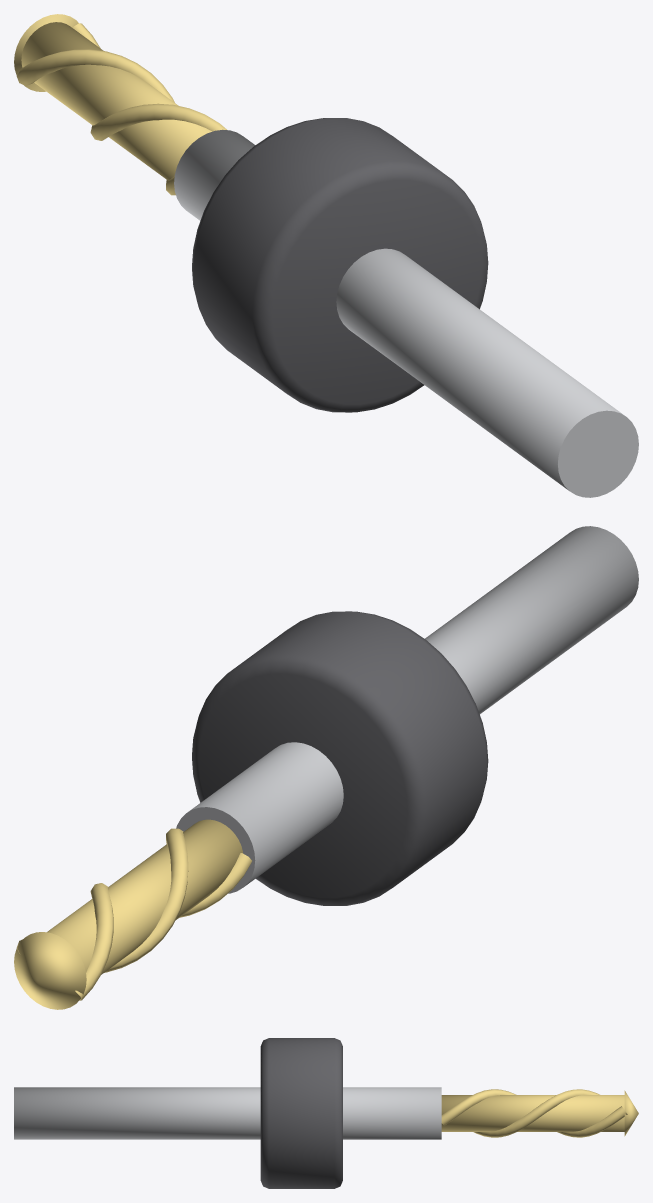
File: drill18_2p9.glb
The picture shows the model from 3 angles, top to bottom: view 1: azimuth 30°, elevation 25°; view 2: azimuth 150°, elevation 25°; view 3: azimuth 270°, elevation 25°; orthographic projection. The views are drawn at different scales.
Visible parts, largest first — view 1: Cylinder.002, Cylinder.001, Cylinder, flute.001, flute, Cone; view 2: Cylinder.002, Cylinder.001, Cylinder, Cone, flute.001, flute; view 3: Cylinder.001, Cylinder.002, Cylinder, flute, flute.001, Cone.
Boxes of the visible parts, x1,y1,x2,y2 form: Cylinder.002: [192, 118, 488, 412]; Cylinder.001: [174, 129, 638, 497]; Cylinder: [21, 22, 211, 180]; flute.001: [16, 49, 175, 195]; flute: [73, 23, 226, 140]; Cone: [14, 14, 78, 91]; Cylinder.002: [192, 611, 488, 905]; Cylinder.001: [176, 526, 638, 893]; Cylinder: [47, 819, 242, 974]; Cone: [14, 932, 86, 1009]; flute.001: [75, 853, 251, 1000]; flute: [16, 828, 188, 972]; Cylinder.001: [14, 1087, 441, 1139]; Cylinder.002: [260, 1038, 342, 1188]; Cylinder: [441, 1095, 624, 1131]; flute: [441, 1089, 627, 1137]; flute.001: [473, 1089, 599, 1137]; Cone: [624, 1090, 638, 1136].
Size of the model in its own units: 0.00917 by 0.00917 by 0.038.
